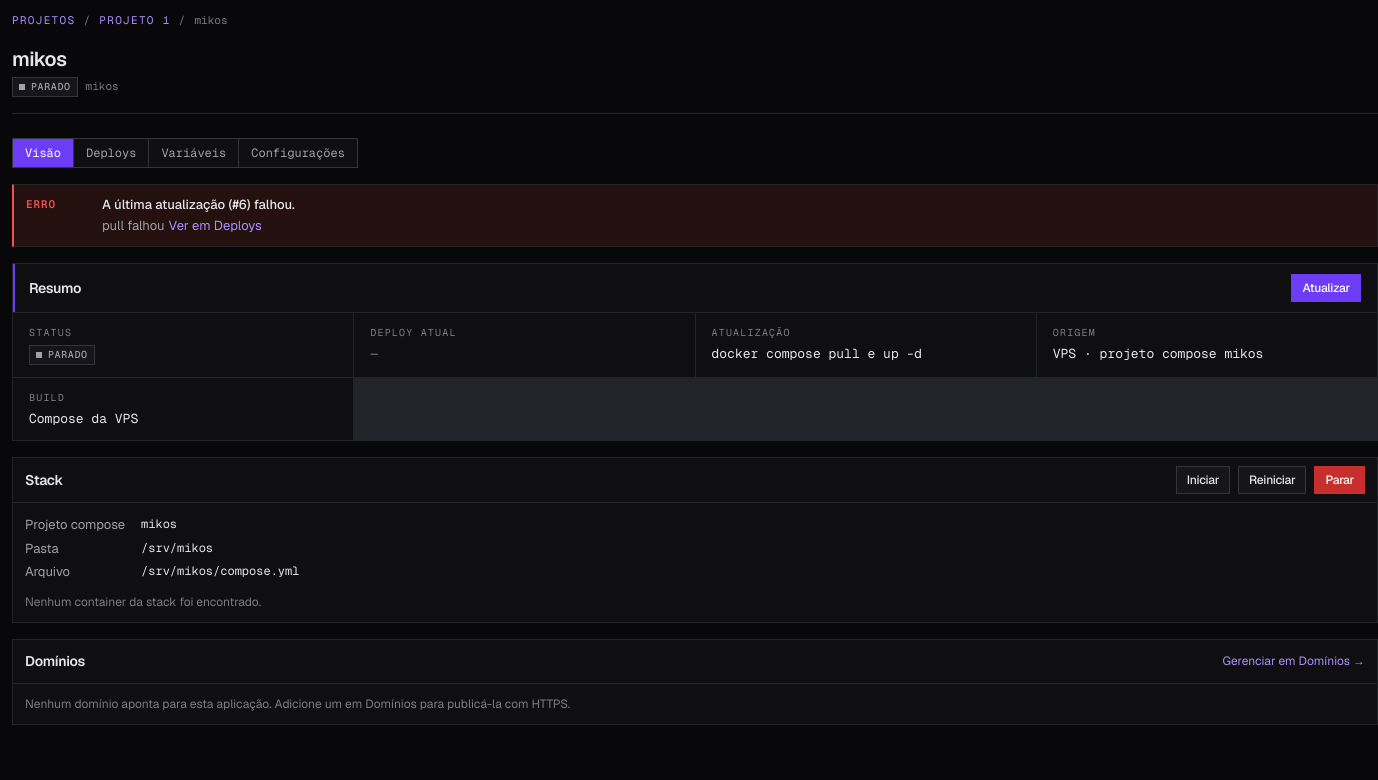
Test case: Detalhe da stack compose da VPS › tem Atualizar, o cartão Stack, o aviso do .env e o modo de atualização nas configurações
Expected: the button "Atualizar" is shown, x1=1292 y1=274 x2=1361 y2=302
Expected: the button "Parar" is shown, x1=1314 y1=466 x2=1365 y2=494
Click the tab "Variáveis" at (193, 152), box x1=148 y1=138 x2=238 y2=166
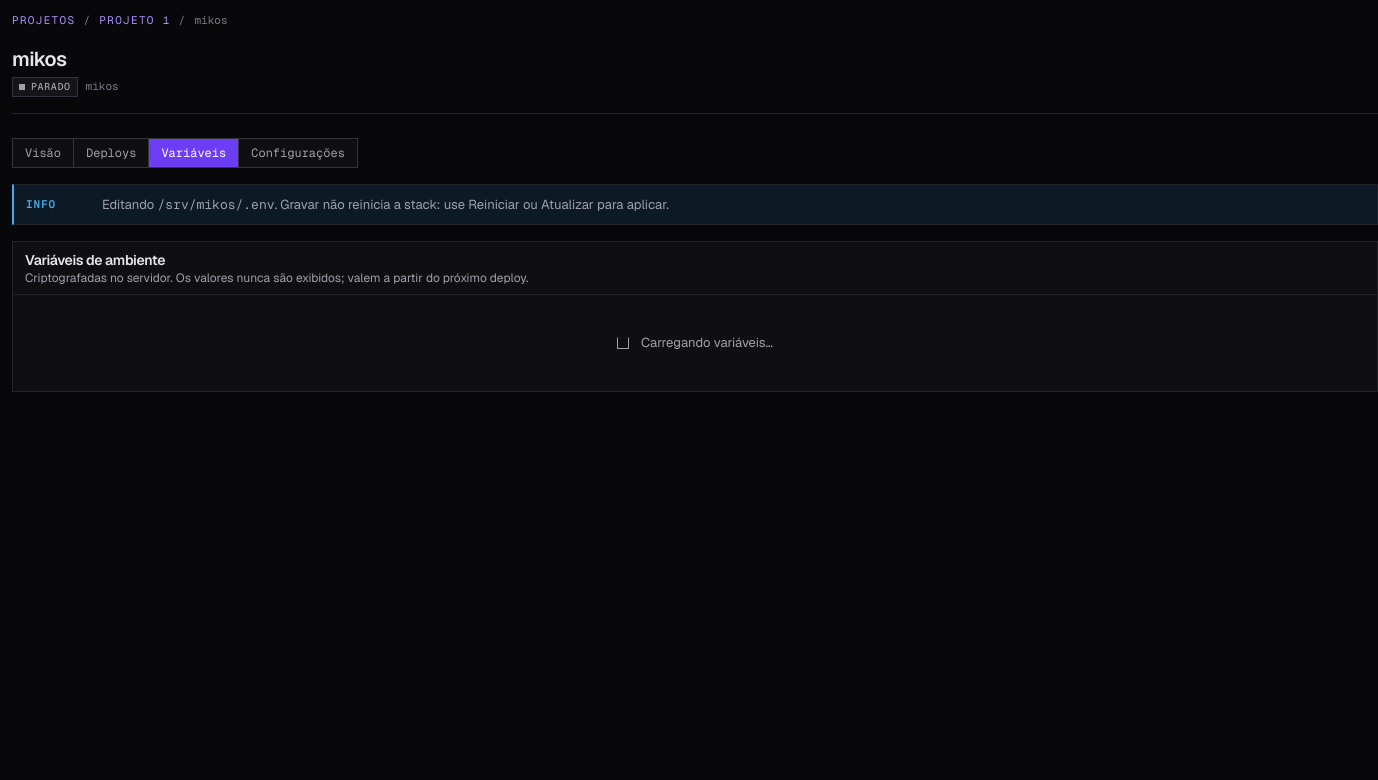
Expected: the text "/srv/mikos/.env" is shown, x1=158 y1=196 x2=274 y2=212
Expected: the text "Editando" is shown, x1=102 y1=196 x2=154 y2=212
Click the tab "Configurações" at (298, 152), box x1=238 y1=138 x2=357 y2=166
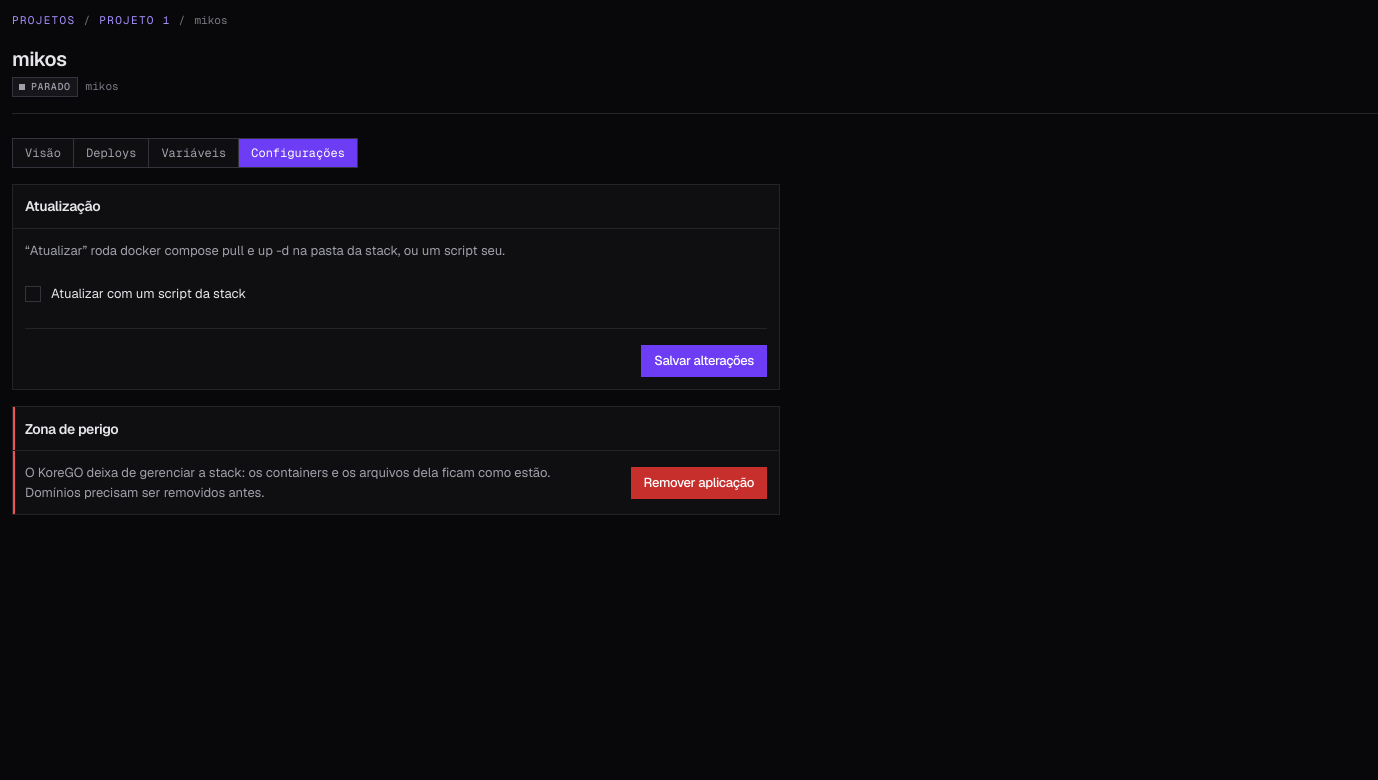
Expected: the checkbox labelled "Atualizar com um script da stack" is shown, x1=25 y1=286 x2=41 y2=302
